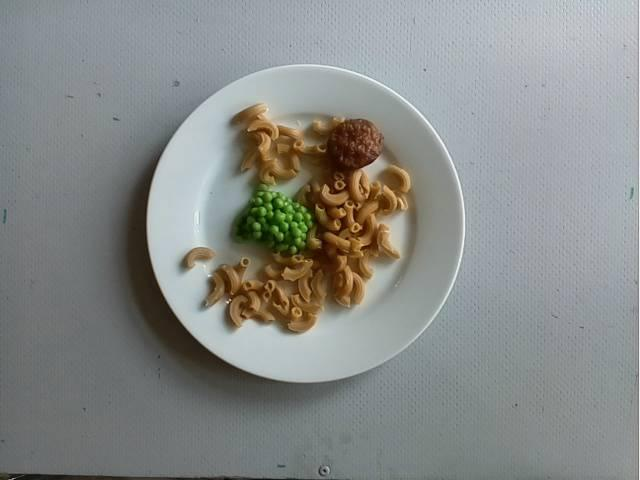Full grain pasta + peas + meatball: (210, 108, 411, 323)
